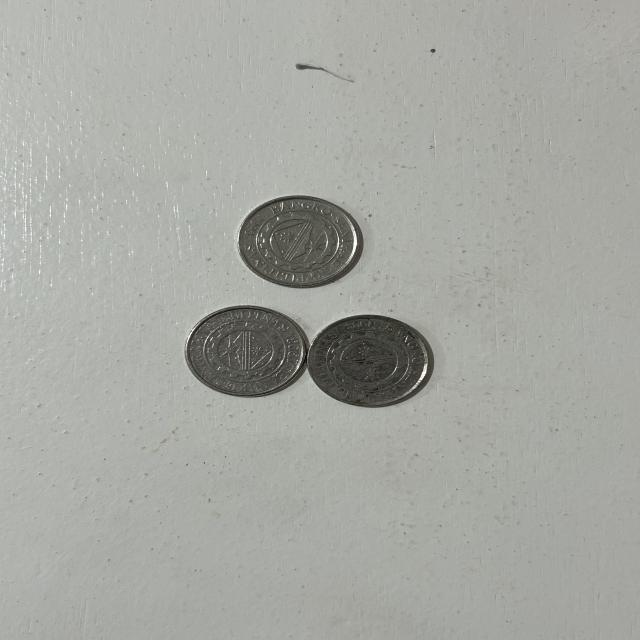1_Old_Back: (320, 328, 410, 398), (254, 208, 341, 275), (201, 318, 289, 382)
